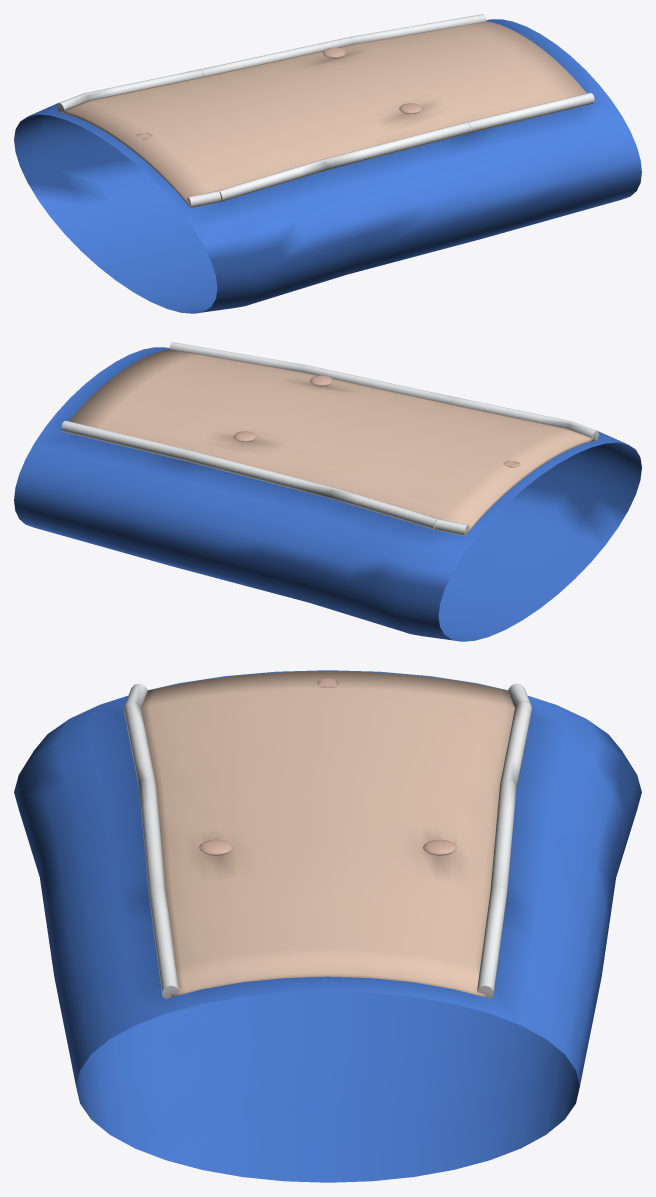
The model's file is anne_chest.glb.
3 views of the same model, one above another, from view 1: azimuth 30°, elevation 25°; view 2: azimuth 150°, elevation 25°; view 3: azimuth 270°, elevation 25° (orthographic). The views are drawn at different scales.
Visible parts, largest first — view 1: torso_chest, chest_skin, zip_1_2, zip_1_3, zip_1_1, zip_-1_2, zip_-1_3, zip_-1_1; view 2: torso_chest, chest_skin, zip_-1_2, zip_-1_3, zip_-1_1, zip_1_2, zip_1_3, zip_1_1; view 3: torso_chest, chest_skin, zip_-1_3, zip_1_3, zip_-1_2, zip_1_2, zip_-1_1, zip_1_1.
Boxes of the visible parts, <box> form: torso_chest: <box>14,19,641,313</box>; chest_skin: <box>61,21,586,205</box>; zip_1_2: <box>322,122,470,170</box>; zip_1_3: <box>466,92,594,133</box>; zip_1_1: <box>218,159,326,201</box>; zip_-1_2: <box>200,37,353,76</box>; zip_-1_3: <box>350,14,486,43</box>; zip_-1_1: <box>84,69,203,100</box>; torso_chest: <box>14,347,641,641</box>; chest_skin: <box>69,349,594,533</box>; zip_-1_2: <box>185,450,333,498</box>; zip_-1_3: <box>61,420,189,461</box>; zip_-1_1: <box>329,487,437,529</box>; zip_1_2: <box>302,365,455,404</box>; zip_1_3: <box>169,342,305,371</box>; zip_1_1: <box>452,397,571,428</box>; torso_chest: <box>14,670,641,1182</box>; chest_skin: <box>141,671,514,996</box>; zip_-1_3: <box>477,886,506,998</box>; zip_1_3: <box>149,886,178,998</box>; zip_-1_2: <box>490,779,516,893</box>; zip_1_2: <box>139,779,165,893</box>; zip_-1_1: <box>500,701,531,787</box>; zip_1_1: <box>124,701,155,787</box>.
Size of the model in its own units: 24 by 7.4 by 20.2.
